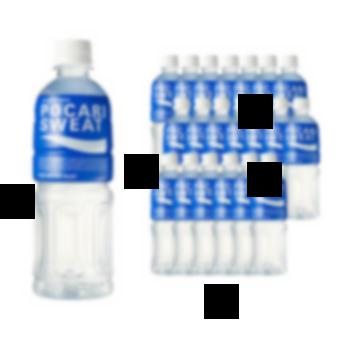pocarisweat: (22, 41, 123, 296), (252, 152, 289, 277), (288, 98, 321, 221), (151, 153, 181, 275)
